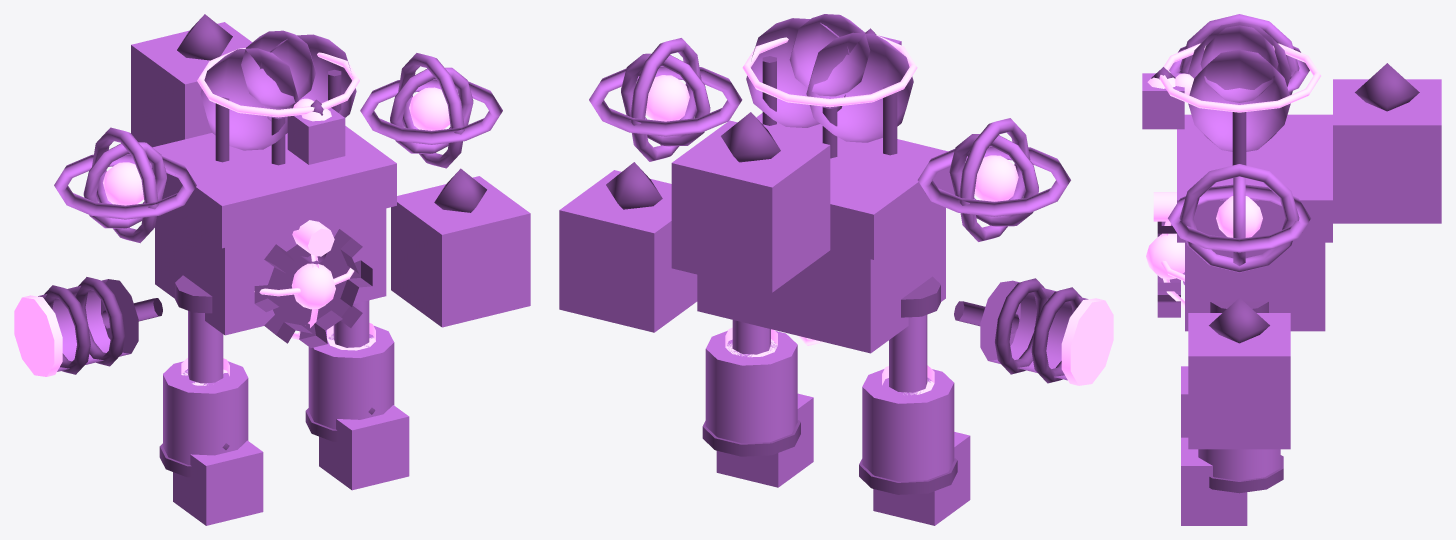
Rendered from golem_147.glb.
3 renders of one model, left to right at view 1: azimuth 30°, elevation 25°; view 2: azimuth 150°, elevation 25°; view 3: azimuth 270°, elevation 25°, orthographic. The views are drawn at different scales.
Parts seen in each view (by area): view 1: Body, Detail, Glow; view 2: Body, Detail, Glow; view 3: Body, Detail, Glow.
Part boxes in pixels (bbox=[...]): Body: bbox=[38, 22, 530, 525]; Detail: bbox=[44, 14, 486, 477]; Glow: bbox=[14, 48, 449, 385]; Body: bbox=[559, 14, 1088, 525]; Detail: bbox=[606, 28, 1081, 494]; Glow: bbox=[645, 35, 1113, 394]; Body: bbox=[1142, 14, 1441, 525]; Detail: bbox=[1151, 63, 1419, 493]; Glow: bbox=[1146, 43, 1320, 308].
Bounding box in the file's own units: 1.16 × 1.05 × 0.6377.
